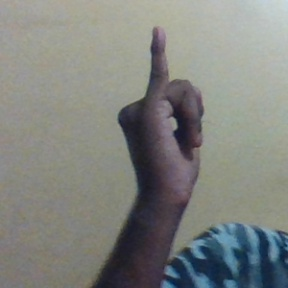I: (116, 23, 213, 195)
